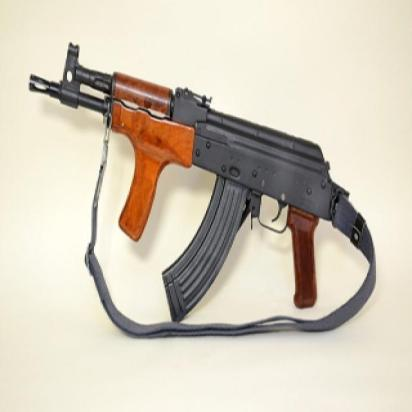Gun: (17, 37, 370, 323)
